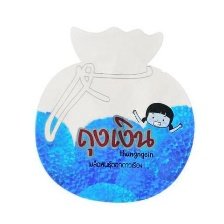snack: (25, 19, 200, 208)
